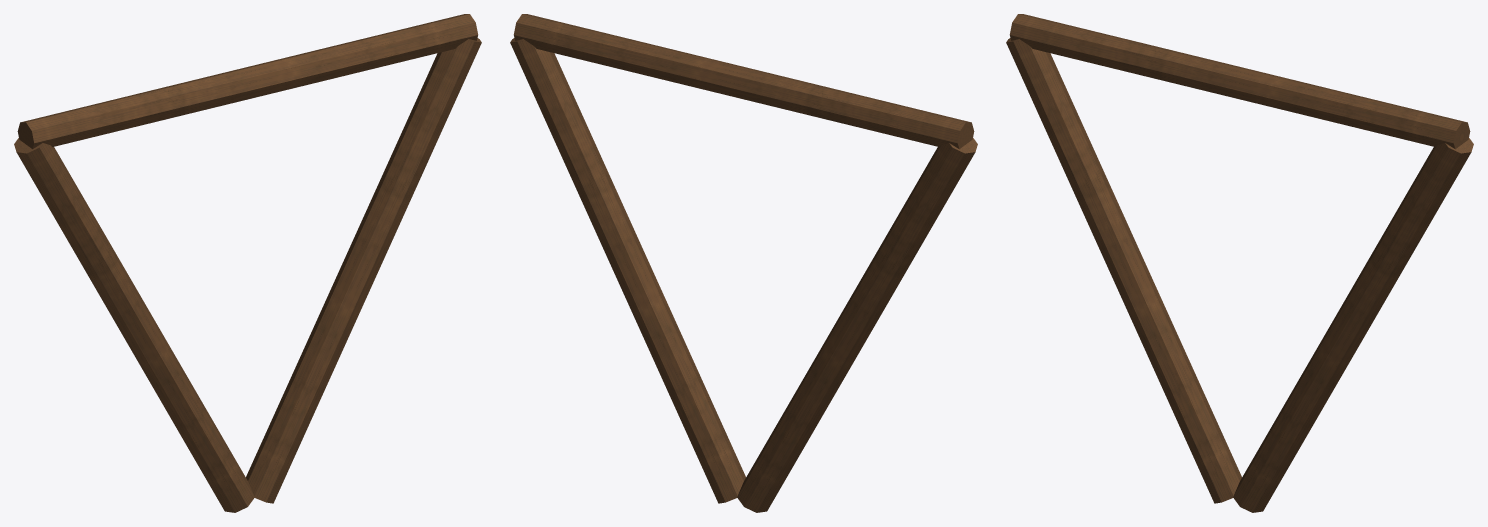
File: cs-001_shelter_foundation.obj
3 views of the same model, side by side, from view 1: azimuth 30°, elevation 25°; view 2: azimuth 150°, elevation 25°; view 3: azimuth 330°, elevation 25° (orthographic).
Visible parts, largest first — view 1: cs-001_shelter_foundation; view 2: cs-001_shelter_foundation; view 3: cs-001_shelter_foundation.
Part boxes in pixels (x1=…): cs-001_shelter_foundation: x1=14, y1=14, x2=481, y2=512; cs-001_shelter_foundation: x1=510, y1=14, x2=977, y2=512; cs-001_shelter_foundation: x1=1006, y1=14, x2=1473, y2=512.
Bounding box in the file's own units: 1.62 × 1.46 × 0.11.
1 material, 1 textured.
